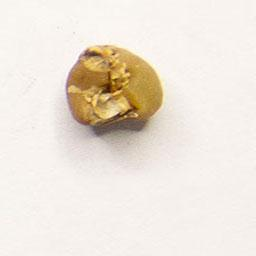defect: (61, 40, 168, 137)
